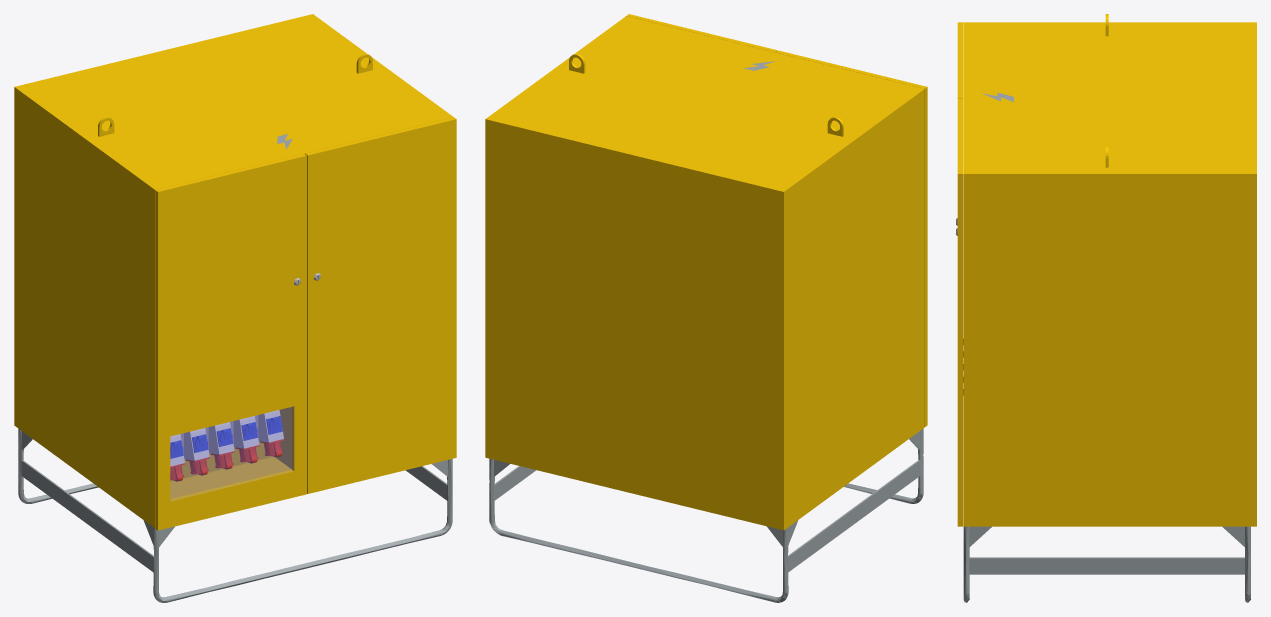
File: V-Strom-Verteiler_dae.dae
The picture shows the model from 3 angles, left to right: view 1: azimuth 30°, elevation 25°; view 2: azimuth 150°, elevation 25°; view 3: azimuth 270°, elevation 25°; orthographic projection. The views are drawn at different scales.
Parts seen in each view (by area): view 1: 32yOTpy9fFWvl4XC9R28lU; view 2: 32yOTpy9fFWvl4XC9R28lU; view 3: 32yOTpy9fFWvl4XC9R28lU.
Boxes of the visible parts, <box> form: 32yOTpy9fFWvl4XC9R28lU: <box>14,14,456,602</box>; 32yOTpy9fFWvl4XC9R28lU: <box>485,14,927,602</box>; 32yOTpy9fFWvl4XC9R28lU: <box>956,14,1256,602</box>.
Bounding box in the file's own units: 1.2 × 1 × 1.66.
